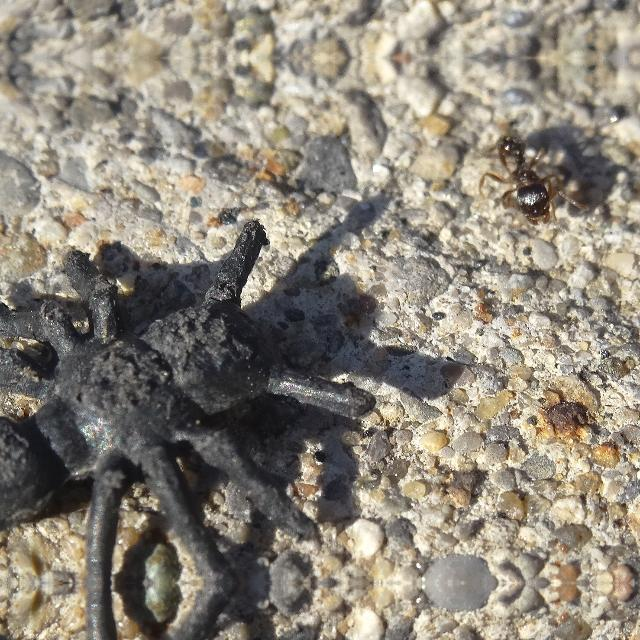Tetramorium: (474, 117, 570, 225)
